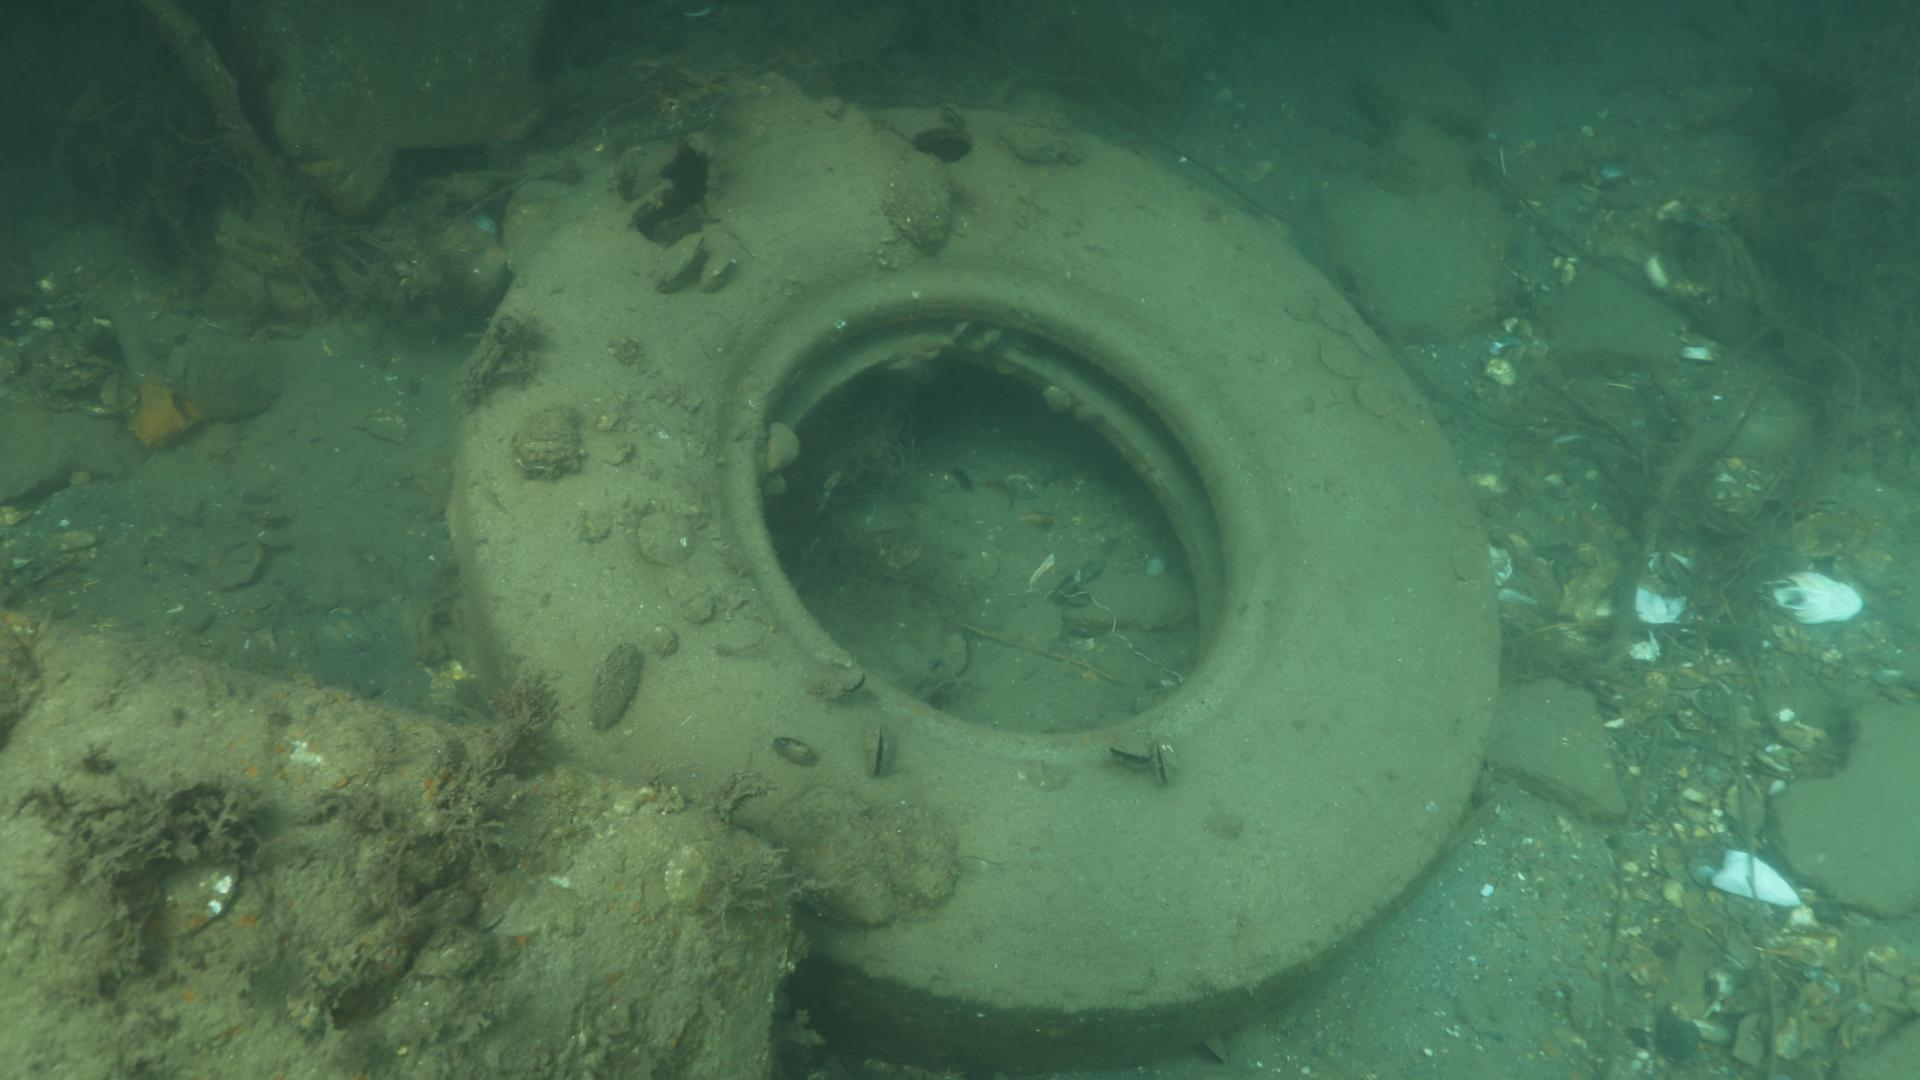tire: (444, 102, 1503, 1073)
